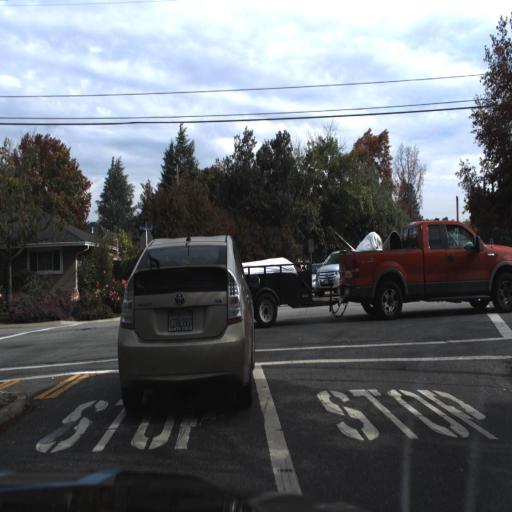car: (253, 218, 511, 323), (116, 230, 254, 416), (318, 249, 345, 294)
